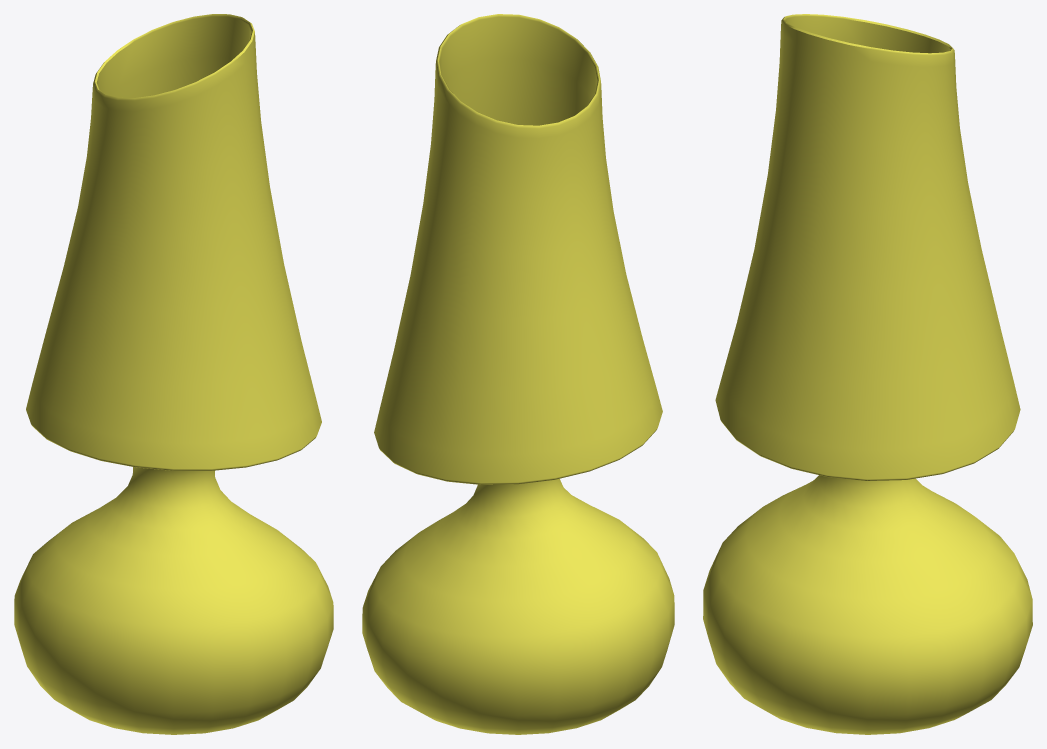
Rendered from RoundLamp.glb.
3 views of the same model, side by side, from view 1: azimuth 30°, elevation 25°; view 2: azimuth 150°, elevation 25°; view 3: azimuth 270°, elevation 25° (orthographic). The views are drawn at different scales.
Visible parts, largest first — view 1: RoundLamp; view 2: RoundLamp; view 3: RoundLamp.
Boxes of the visible parts, <box> form: RoundLamp: <box>14,14,333,734</box>; RoundLamp: <box>362,14,674,734</box>; RoundLamp: <box>703,14,1032,734</box>.
Size of the model in its own units: 0.3465 by 0.7953 by 0.3467.
